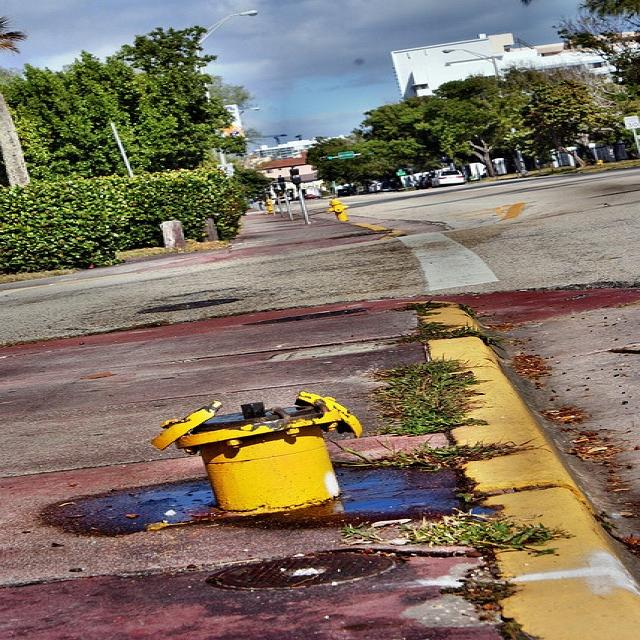car: (428, 166, 463, 186)
fire_hydrant: (149, 390, 362, 515), (326, 197, 347, 220), (263, 197, 271, 212)
